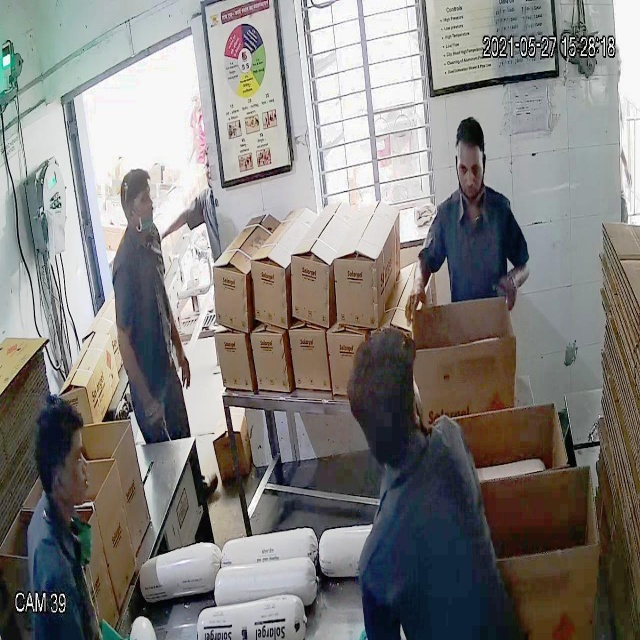Sin_gafas: (452, 156, 486, 183), (130, 184, 153, 210)
